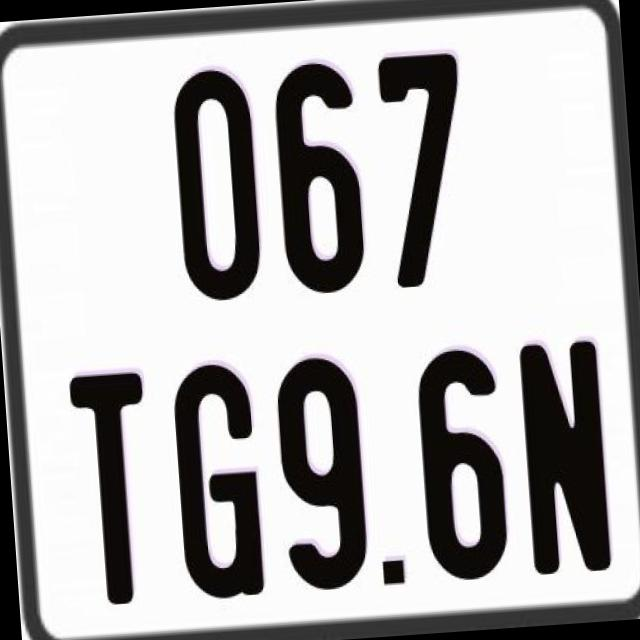0: (166, 67, 264, 307)
6: (270, 58, 366, 294), (412, 342, 508, 578)
7: (374, 48, 476, 288)
9: (271, 351, 374, 595)
G: (171, 361, 271, 598)
N: (515, 336, 610, 572)
T: (67, 370, 161, 614)
